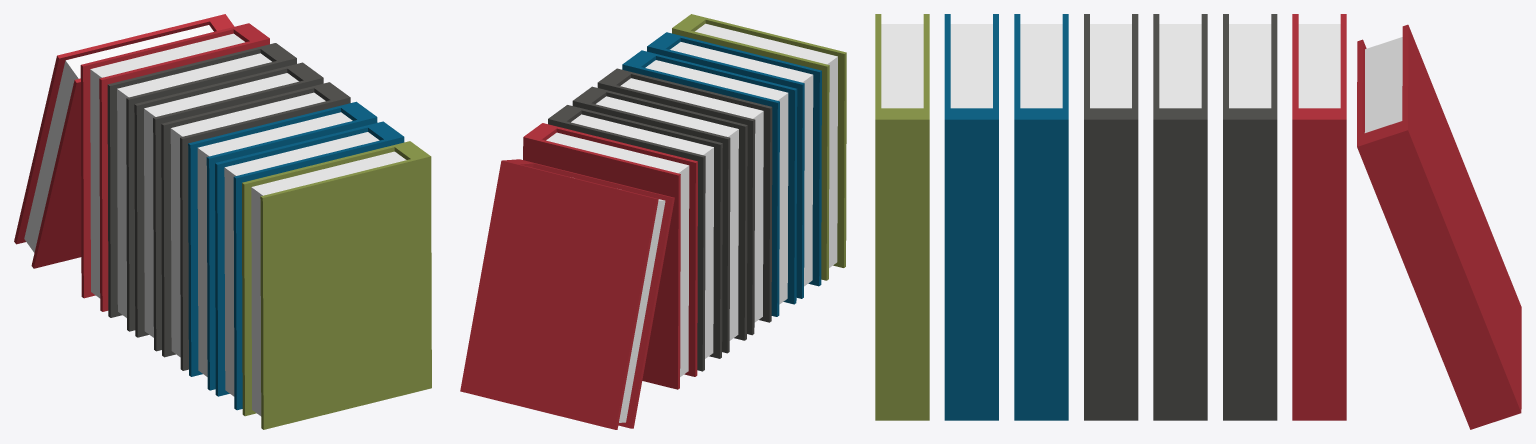
File: book_collection1.fbx
3 views of the same model, side by side, from view 1: azimuth 30°, elevation 25°; view 2: azimuth 150°, elevation 25°; view 3: azimuth 270°, elevation 25° (orthographic). The views are drawn at different scales.
Visible parts, largest first — view 1: book_cover, book_cover_7, book_cover_3, book_cover_4, book_cover_5, book_cover_2, book_cover_1, book_cover_6, book_paper_5, book_paper_4, book_paper, book_paper_2 (+4 smaller); view 2: book_cover_7, book_cover_6, book_cover_4, book_cover, book_cover_5, book_cover_1, book_cover_3, book_cover_2, book_paper_6, book_paper_2, book_paper_3, book_paper_1 (+4 smaller); view 3: book_cover_7, book_cover, book_cover_2, book_cover_4, book_cover_6, book_cover_1, book_cover_3, book_cover_5, book_paper, book_paper_2, book_paper_4, book_paper_1 (+4 smaller).
Part boxes in pixels (x1,y1,x2,y2): book_cover: (242, 141, 431, 429); book_cover_7: (14, 14, 234, 268); book_cover_3: (161, 82, 350, 370); book_cover_4: (134, 62, 323, 351); book_cover_5: (107, 43, 296, 331); book_cover_2: (188, 101, 377, 390); book_cover_1: (215, 121, 404, 410); book_cover_6: (80, 23, 269, 311); book_paper_5: (117, 53, 271, 317); book_paper_4: (144, 73, 298, 337); book_paper: (251, 151, 406, 416); book_paper_2: (197, 112, 352, 376); book_cover_7: (460, 159, 674, 429); book_cover_6: (523, 123, 697, 389); book_cover_4: (572, 86, 747, 353); book_cover: (672, 14, 846, 280); book_cover_5: (548, 105, 722, 371); book_cover_1: (647, 32, 821, 298); book_cover_3: (597, 68, 772, 335); book_cover_2: (622, 50, 797, 316); book_paper_6: (546, 132, 689, 376); book_paper_2: (645, 60, 788, 304); book_paper_3: (620, 78, 763, 322); book_paper_1: (670, 42, 813, 286); book_cover_7: (1357, 24, 1521, 429); book_cover: (875, 14, 929, 420); book_cover_2: (1014, 14, 1068, 420); book_cover_4: (1153, 14, 1207, 420); book_cover_6: (1292, 14, 1346, 420); book_cover_1: (944, 14, 998, 420); book_cover_3: (1084, 14, 1138, 420); book_cover_5: (1223, 14, 1277, 420); book_paper: (881, 24, 923, 108); book_paper_2: (1020, 24, 1062, 108); book_paper_4: (1159, 24, 1201, 108); book_paper_1: (950, 24, 992, 108).
Size of the model in its own units: 19.43 by 26.33 by 49.66.
